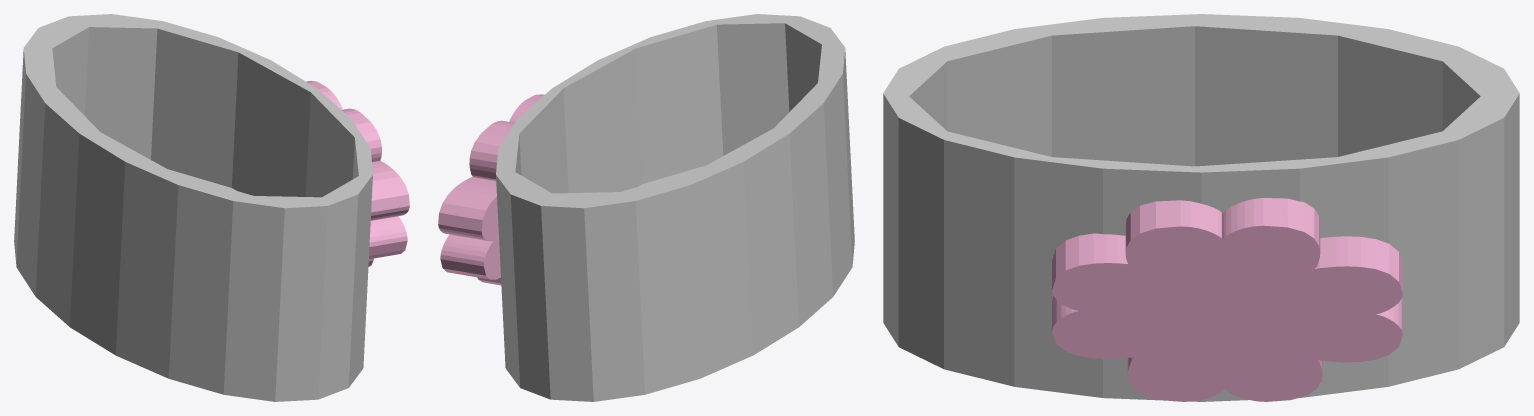
File: tinker.obj
3 views of the same model, side by side, from view 1: azimuth 30°, elevation 25°; view 2: azimuth 150°, elevation 25°; view 3: azimuth 270°, elevation 25° (orthographic). The views are drawn at different scales.
Visible parts, largest first — view 1: group_0_16089887, group_0_15708628; view 2: group_0_16089887, group_0_15708628; view 3: group_0_16089887, group_0_15708628.
Boxes of the visible parts, <box> form: group_0_16089887: <box>14,14,372,401</box>; group_0_15708628: <box>306,80,409,266</box>; group_0_16089887: <box>496,14,854,401</box>; group_0_15708628: <box>438,94,544,285</box>; group_0_16089887: <box>883,14,1519,401</box>; group_0_15708628: <box>1052,198,1402,401</box>.
Size of the model in its own units: 30.87 by 21.33 by 49.
